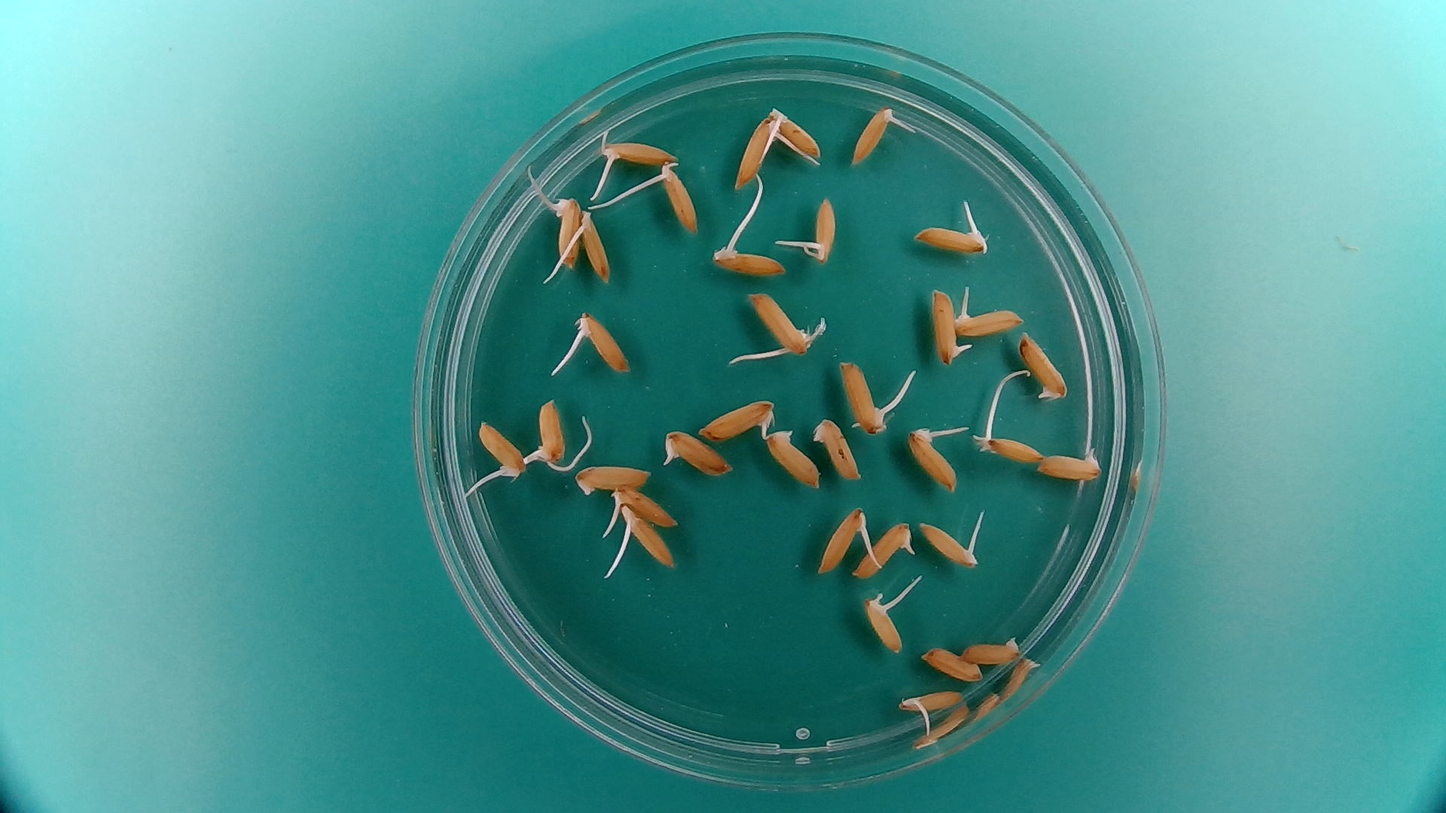no: (762, 425, 822, 491), (810, 415, 865, 483), (572, 460, 653, 497), (917, 644, 984, 685), (957, 632, 1023, 664)
yes: (744, 288, 816, 353), (842, 359, 902, 435), (905, 422, 963, 495), (694, 394, 778, 443), (852, 519, 917, 581), (1017, 330, 1072, 403), (573, 311, 633, 376), (615, 510, 677, 571), (651, 160, 700, 236), (660, 428, 734, 478), (731, 114, 778, 191), (916, 517, 983, 569), (762, 105, 822, 163), (816, 510, 868, 576), (606, 484, 682, 528), (475, 419, 527, 483), (1036, 437, 1105, 483), (862, 589, 908, 655), (600, 131, 682, 168), (929, 286, 964, 370), (971, 429, 1048, 465), (850, 106, 895, 167), (531, 397, 569, 469), (708, 245, 786, 279), (578, 211, 615, 281), (550, 196, 583, 269), (913, 223, 990, 254), (952, 306, 1025, 338), (807, 198, 842, 260), (897, 689, 964, 714)
